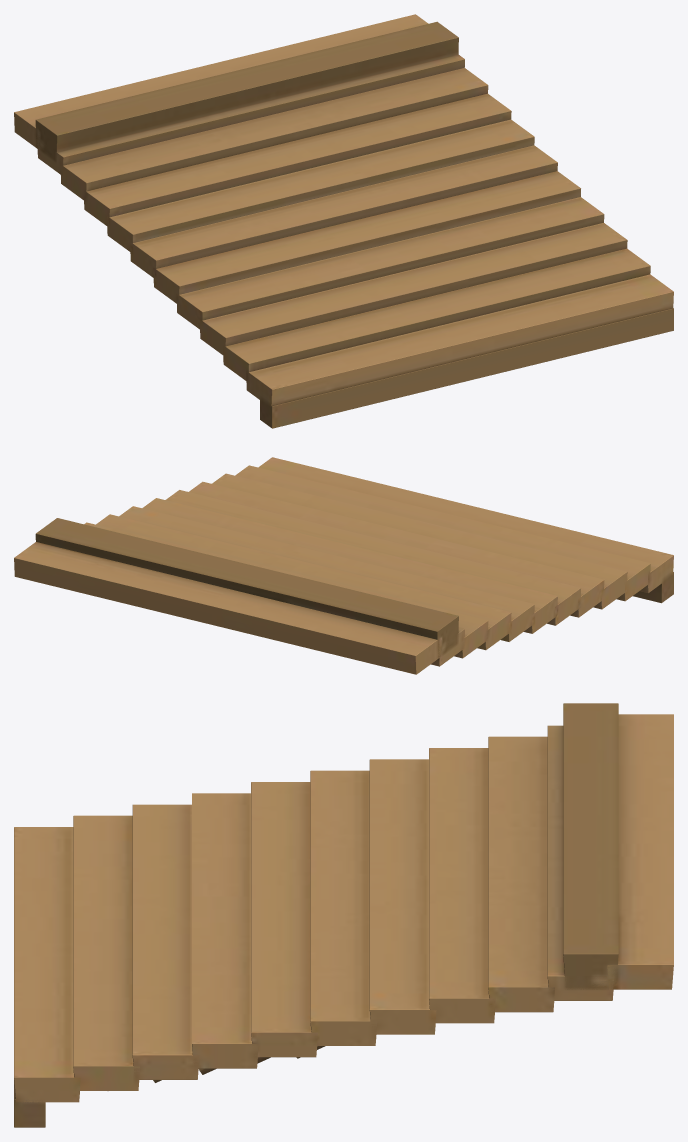
The model's file is BD_roof.glb.
3 views of the same model, one above another, from view 1: azimuth 30°, elevation 25°; view 2: azimuth 150°, elevation 25°; view 3: azimuth 270°, elevation 25° (orthographic). The views are drawn at different scales.
Visible parts, largest first — view 1: BD_roof; view 2: BD_roof; view 3: BD_roof.
Part boxes in pixels (left/top/right/bottom): BD_roof: left=14, top=14, right=673, bottom=428; BD_roof: left=14, top=457, right=673, bottom=674; BD_roof: left=14, top=703, right=673, bottom=1127.
Size of the model in its own units: 3 by 0.97 by 3.34.
1 material, 1 textured.
